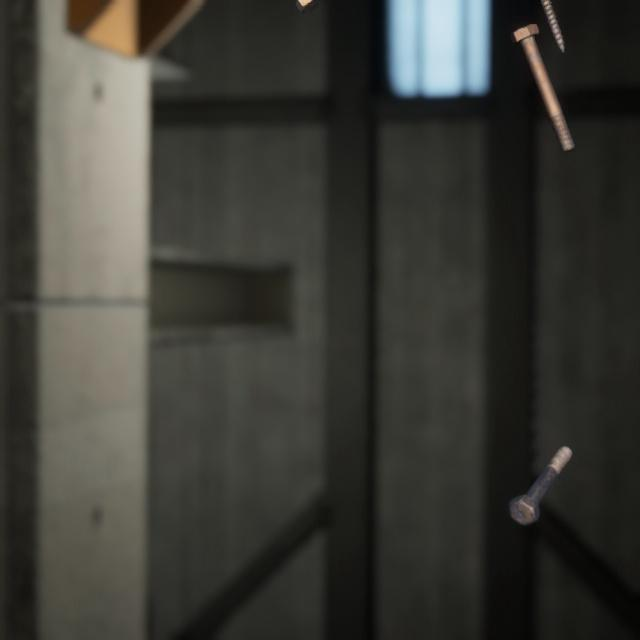bolt: (505, 8, 579, 145), (504, 421, 577, 508), (537, 0, 570, 50)
